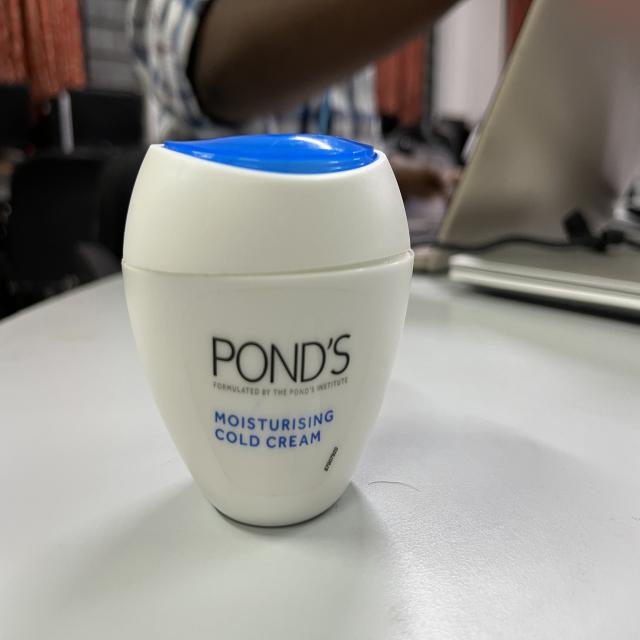L1: (108, 123, 421, 531)
